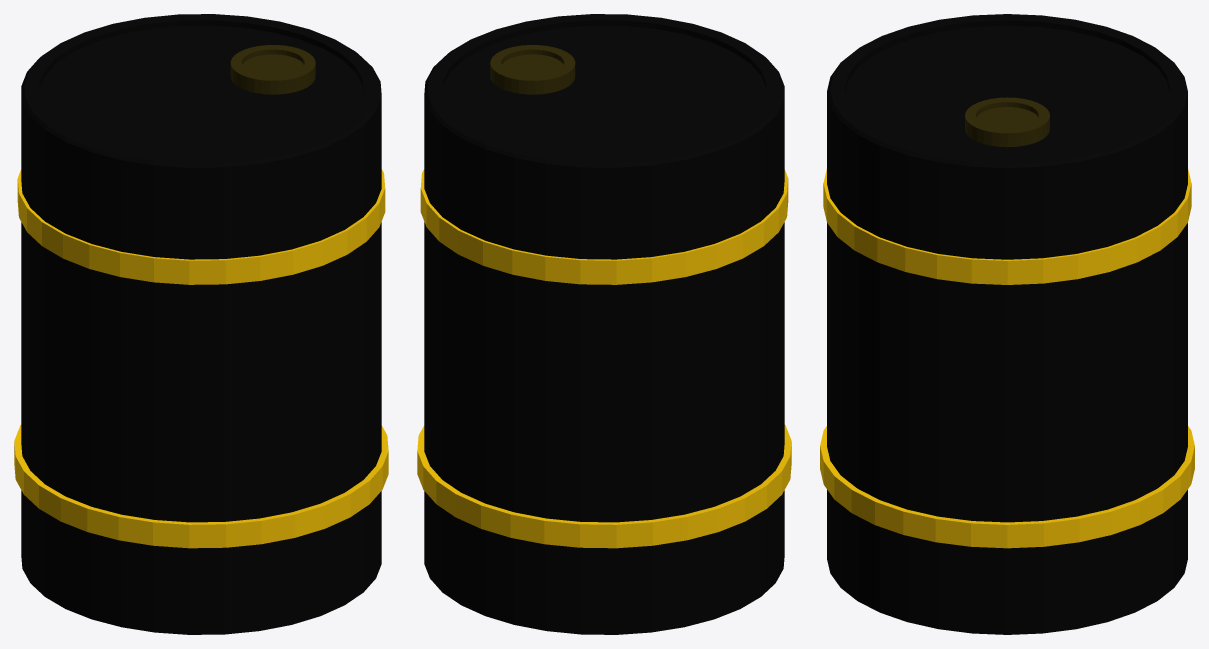
Rendered from barrel.fbx.
3 renders of one model, left to right at view 1: azimuth 30°, elevation 25°; view 2: azimuth 150°, elevation 25°; view 3: azimuth 270°, elevation 25°, orthographic.
Visible parts, largest first — view 1: HighPoly; view 2: HighPoly; view 3: HighPoly.
Boxes of the visible parts, x1,y1,x2,y2 form: HighPoly: [14, 14, 388, 634]; HighPoly: [417, 14, 791, 634]; HighPoly: [820, 14, 1194, 634].
Size of the model in its own units: 115 by 162 by 115.
